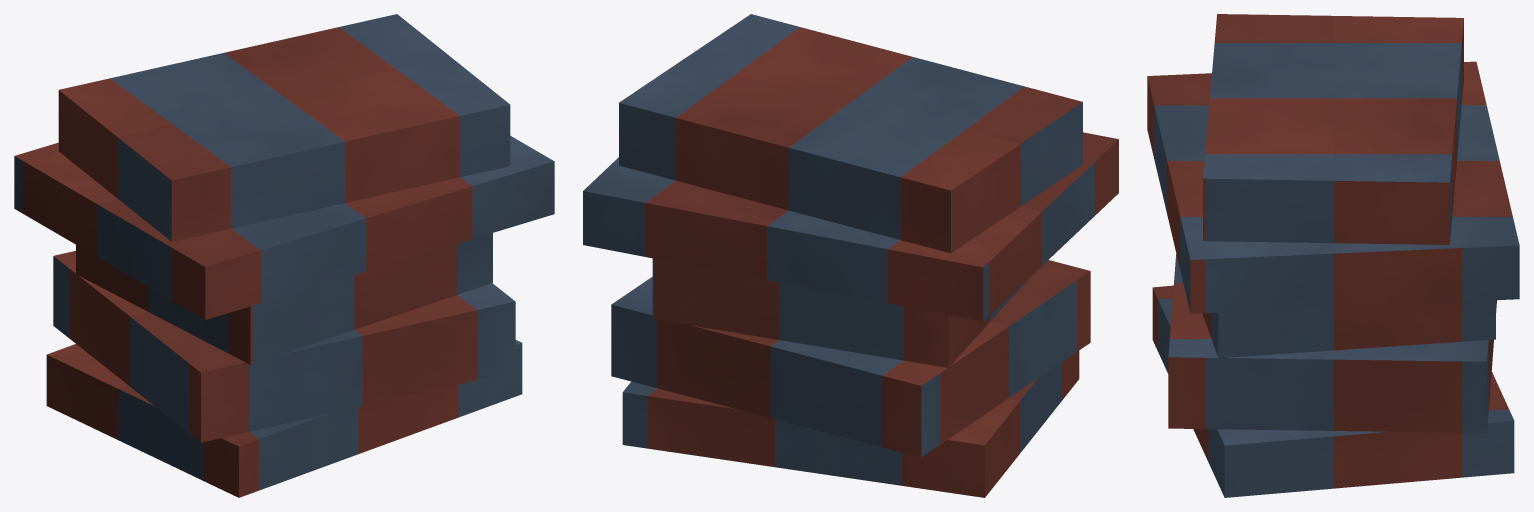
Rendered from Book_Stack_1_LOD2.gltf.
3 views of the same model, side by side, from view 1: azimuth 30°, elevation 25°; view 2: azimuth 150°, elevation 25°; view 3: azimuth 270°, elevation 25° (orthographic). The views are drawn at different scales.
Parts seen in each view (by area): view 1: Book_Stack_1_LOD2; view 2: Book_Stack_1_LOD2; view 3: Book_Stack_1_LOD2.
Boxes of the visible parts, left/top/right/bottom form: Book_Stack_1_LOD2: left=14, top=14, right=554, bottom=497; Book_Stack_1_LOD2: left=583, top=14, right=1118, bottom=497; Book_Stack_1_LOD2: left=1147, top=14, right=1519, bottom=497.
Bounding box in the file's own units: 0.29 × 0.21 × 0.23.
1 material, 1 textured.
